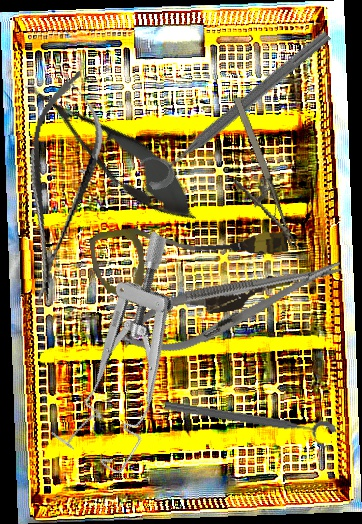Cannula: (88, 206, 296, 330)
Fixation Ring: (133, 15, 336, 195), (161, 395, 338, 452)
Micro Scissor: (8, 62, 214, 239), (2, 64, 116, 307)
Needle Holder: (111, 240, 353, 370), (208, 94, 297, 259)
Speculum: (32, 229, 238, 478)
